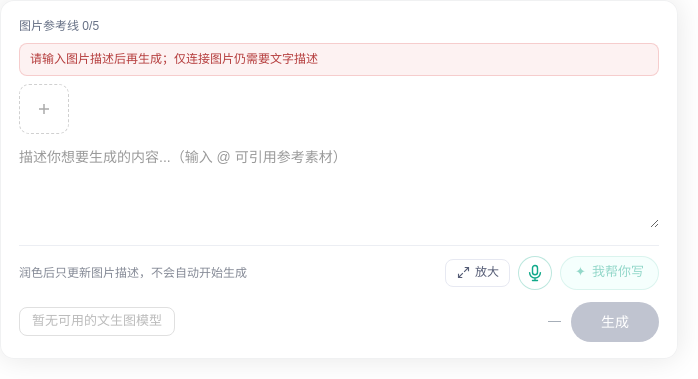
Scenario: CanvasNodePanel unified real-person material entry › 参考来源菜单脱离可滚动面板，并支持关闭和选用素材
Click the button titled "添加参考": (44, 109) [19,84,69,134]
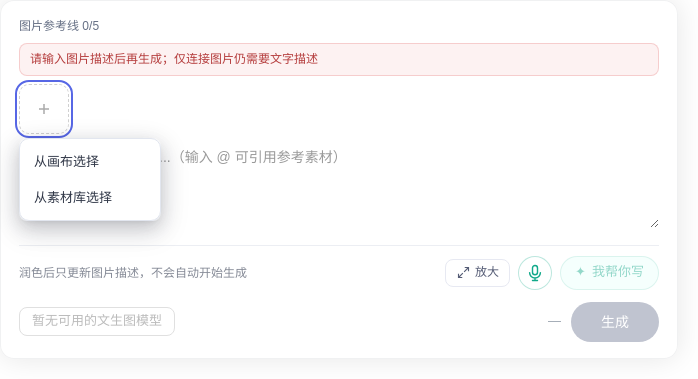
Expected: the element showing "从画布选择 从素材库选择" is shown, [19,138,161,221]
Press Escape
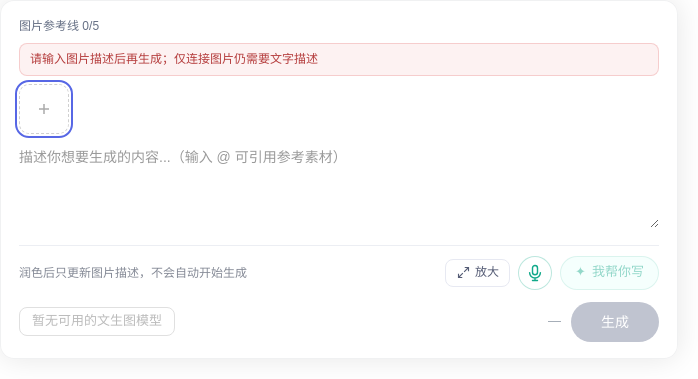
Expected: the menu is gone
Click the button titled "添加参考": (44, 109) [19,84,69,134]
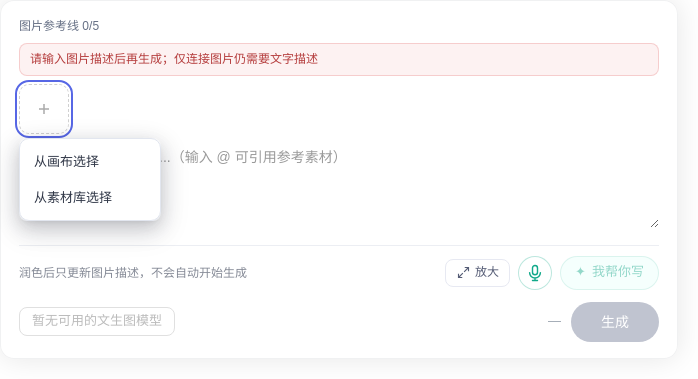
Click the menu item "从素材库选择": (90, 198) [24,179,156,216]
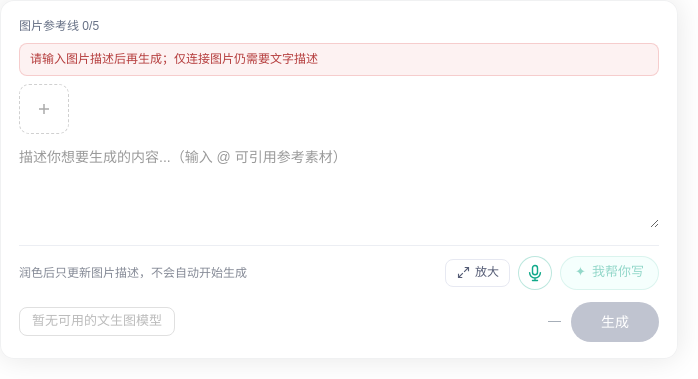
Expected: the menu is gone
